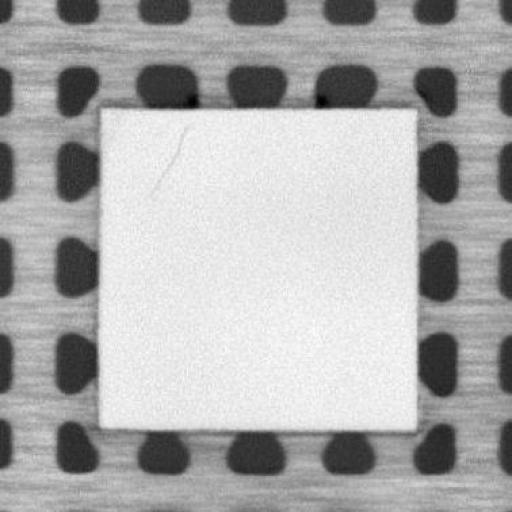DIE_CRACK: (148, 123, 188, 195)
